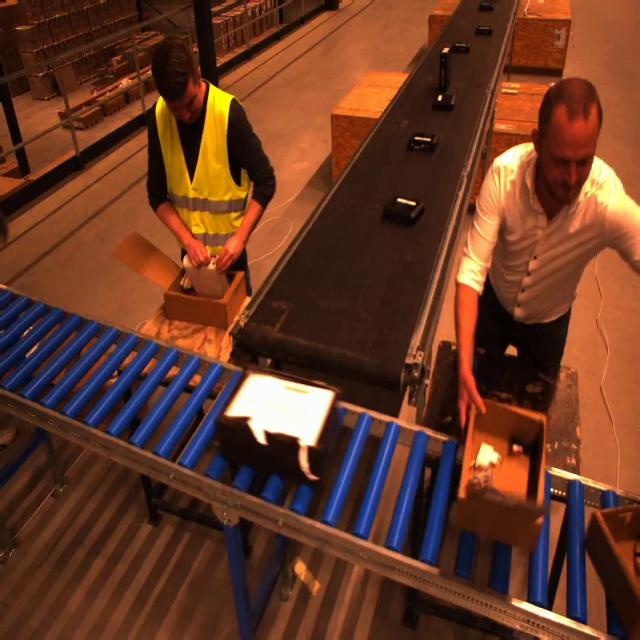box: (462, 378, 558, 554), (209, 358, 342, 476), (166, 252, 257, 325)
product: (385, 192, 422, 230), (409, 127, 438, 157), (438, 42, 453, 93), (433, 91, 458, 112), (451, 42, 470, 56), (474, 25, 494, 37), (477, 0, 494, 10)
